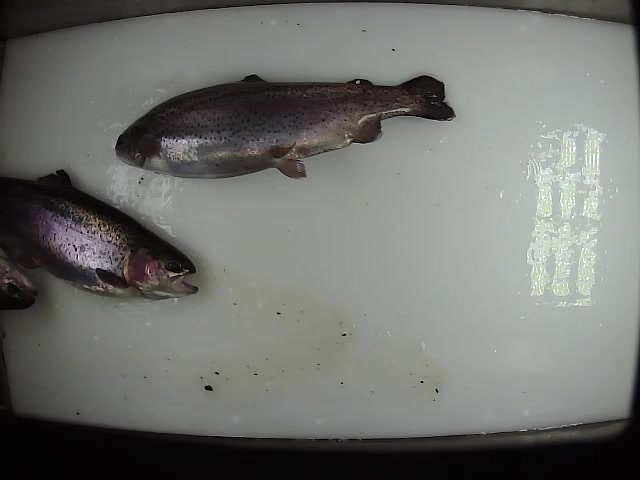fish: (112, 69, 459, 183), (1, 168, 201, 303)
